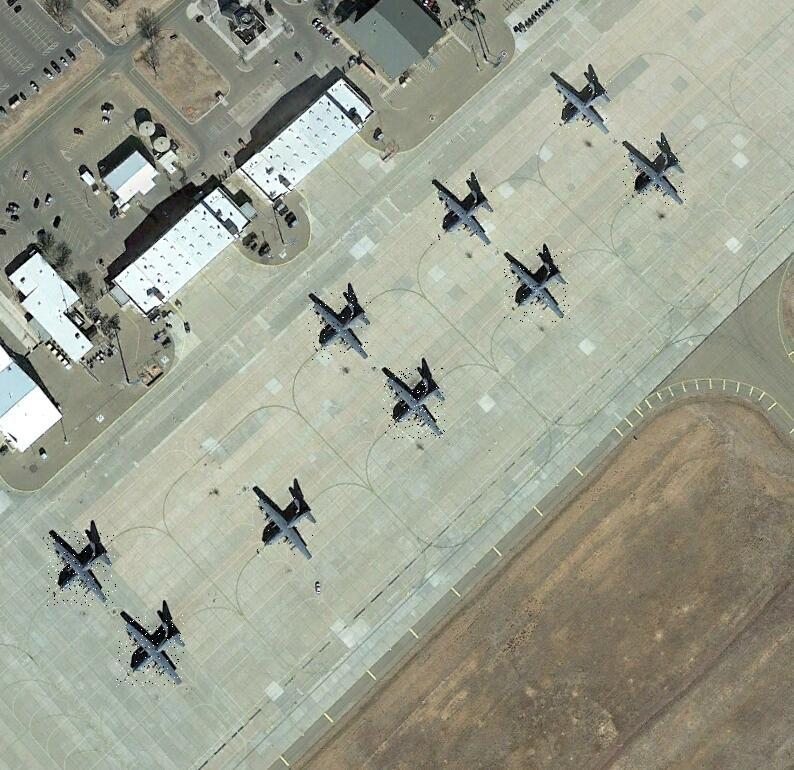A2: (47, 531, 116, 606), (116, 615, 184, 687), (504, 248, 570, 322), (622, 135, 686, 206), (252, 492, 316, 563), (431, 176, 493, 248), (383, 368, 445, 439), (308, 291, 371, 360), (553, 68, 613, 134)
